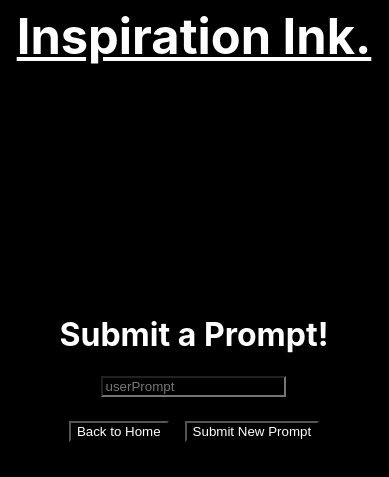
Test: Home Page › should display an error if there is an error with submission
Type "draw a walrus" into the field with placeholder "userPrompt" at (195,387), box [102,376,287,397]
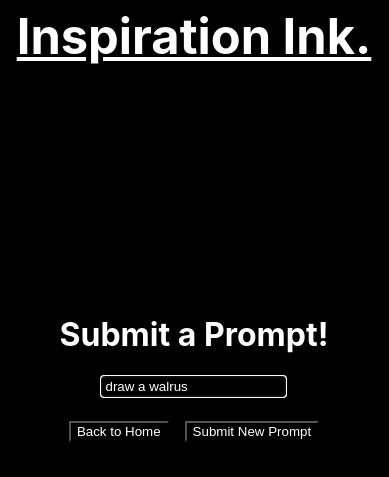
Click the button "Submit New Prompt" at (253,432), box [185,421,320,442]
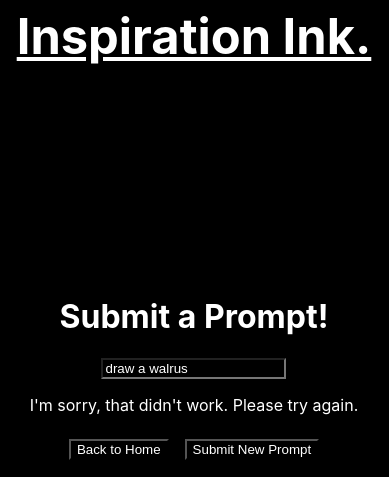
Now the text "I'm sorry, that didn't work. Please try again." is shown, box [30,395,358,415]
